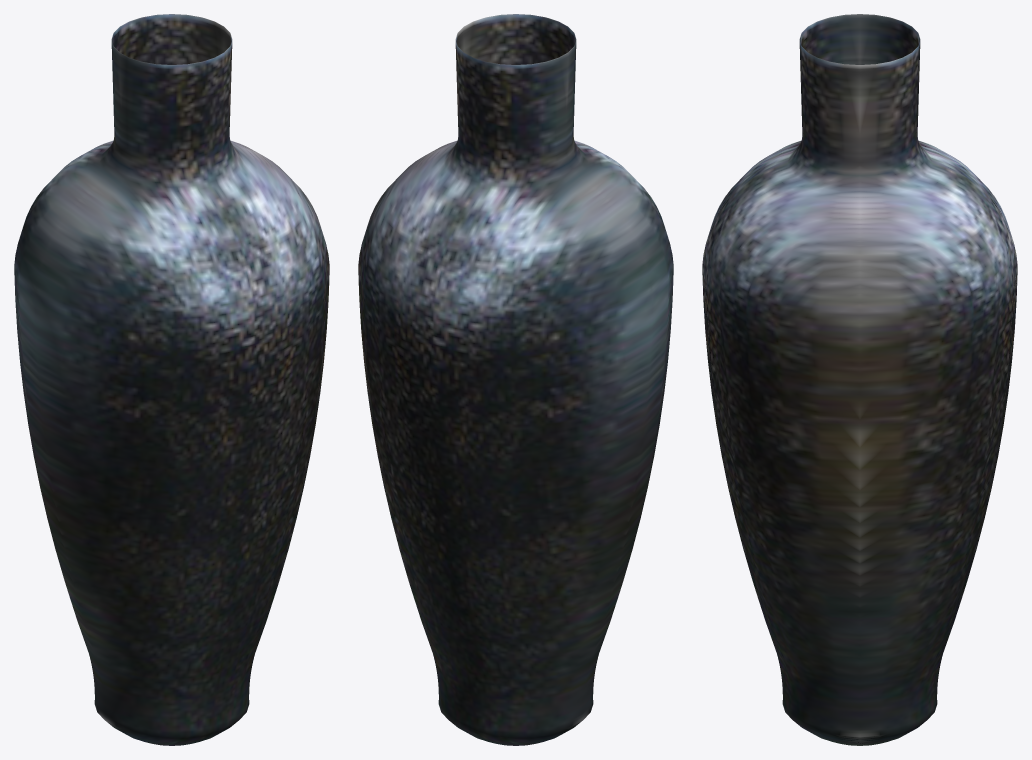
File: vase1.fbx
3 views of the same model, side by side, from view 1: azimuth 30°, elevation 25°; view 2: azimuth 150°, elevation 25°; view 3: azimuth 270°, elevation 25° (orthographic).
Parts seen in each view (by area): view 1: group_0; view 2: group_0; view 3: group_0.
Part boxes in pixels (<box>): group_0: <box>14,14,329,745</box>; group_0: <box>358,14,673,745</box>; group_0: <box>702,14,1017,745</box>.
Bounding box in the file's own units: 8.09 × 19.69 × 8.09.
1 material, 1 textured.
